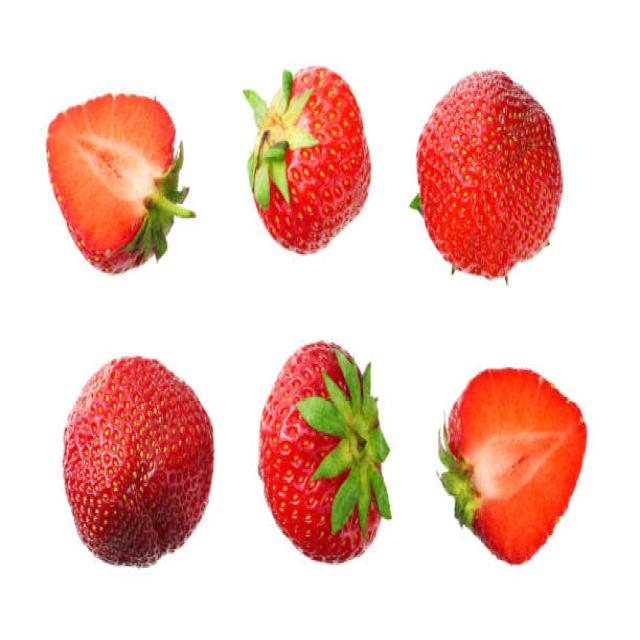Healthy Fruit: (63, 356, 215, 568), (415, 69, 563, 276), (445, 366, 587, 565), (258, 343, 382, 561), (46, 92, 175, 273), (252, 64, 373, 253)
